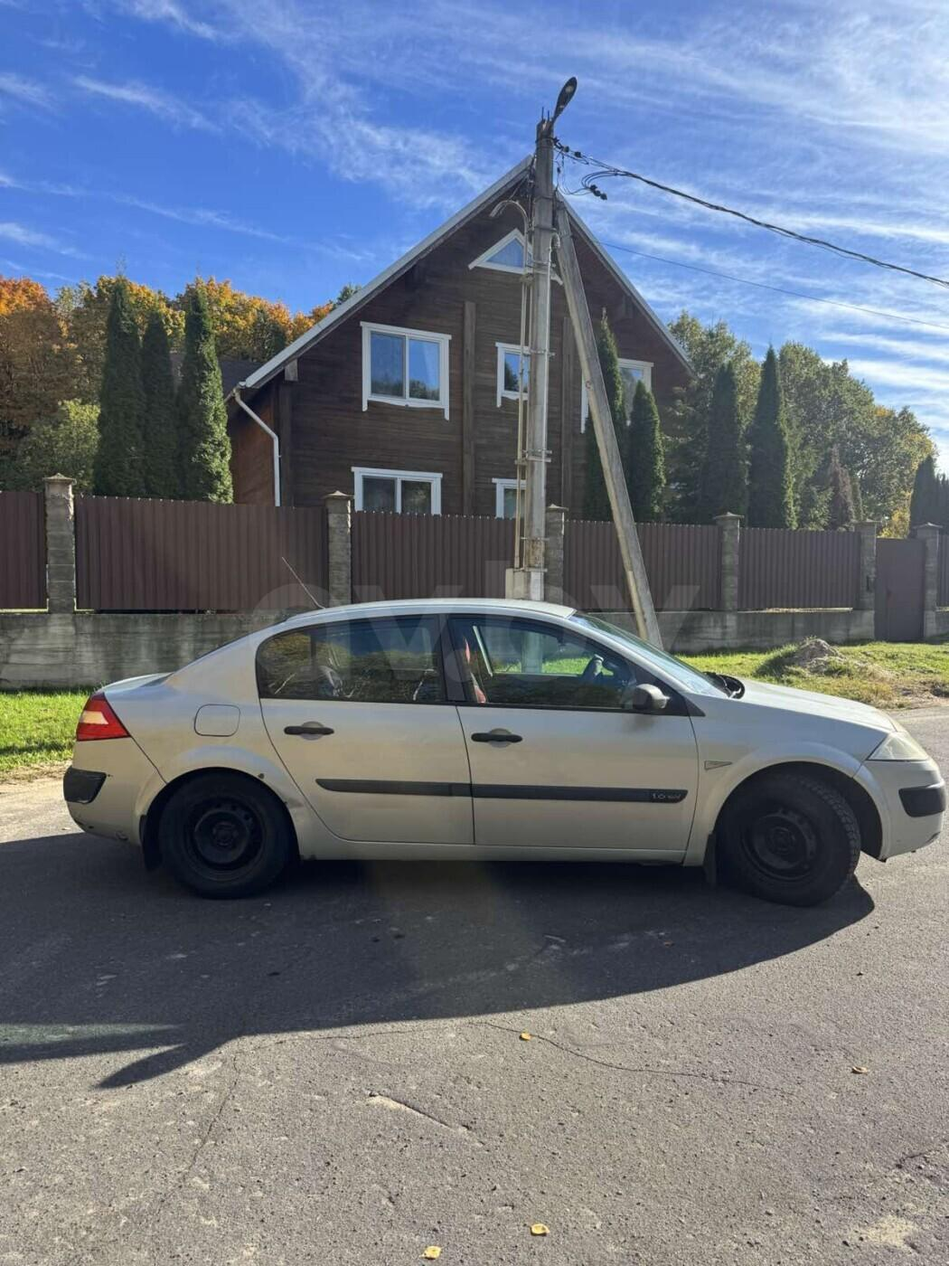Megane_2002-2006: (58, 588, 940, 922)
